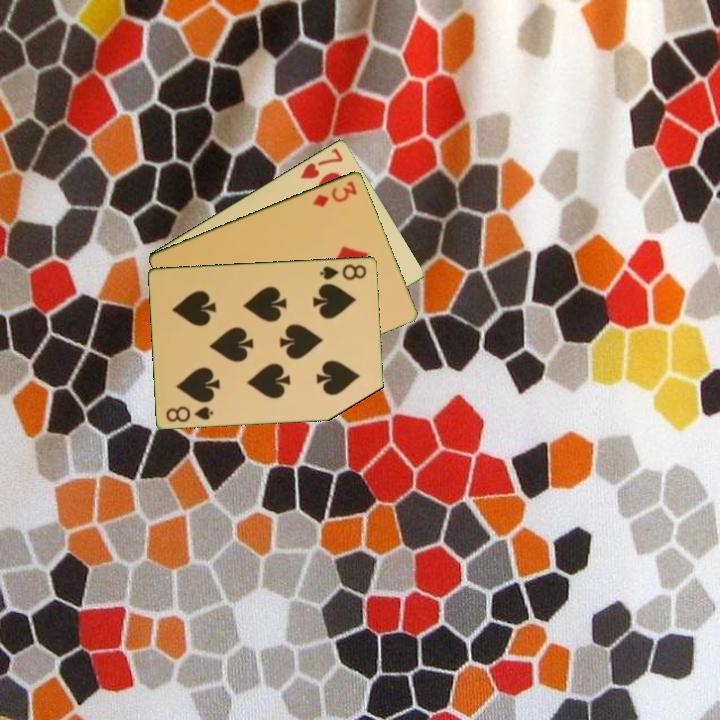3d: (309, 177, 360, 210)
7h: (297, 144, 346, 181)
8s: (317, 260, 370, 283), (163, 402, 216, 425)
